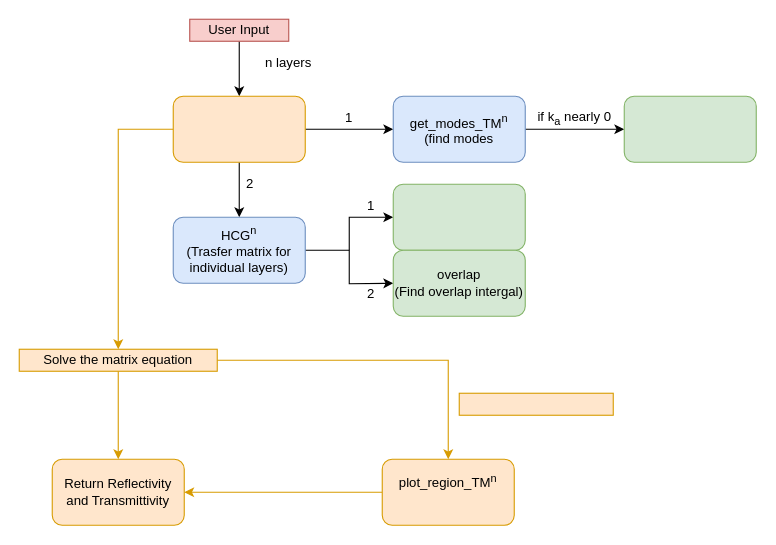
Image size: 776x545. Some labels were removed from this diagram. The centre of each missing label's shape, as x and y in pixels:
"HCG_central_node (Preprocessing)" goes at (x=238, y=128).
"If Plot enabled" goes at (x=535, y=403).
"seflmade_fsolve_TM" goes at (x=689, y=128).
"TM_coeff (Find coefficients)" goes at (x=458, y=216).
